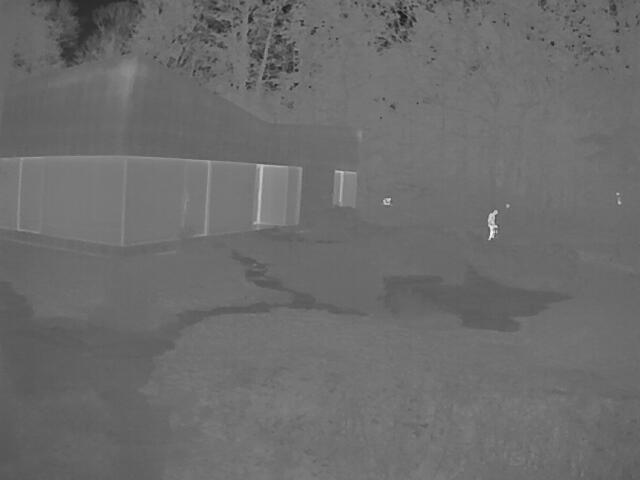person: (486, 208, 499, 241)
